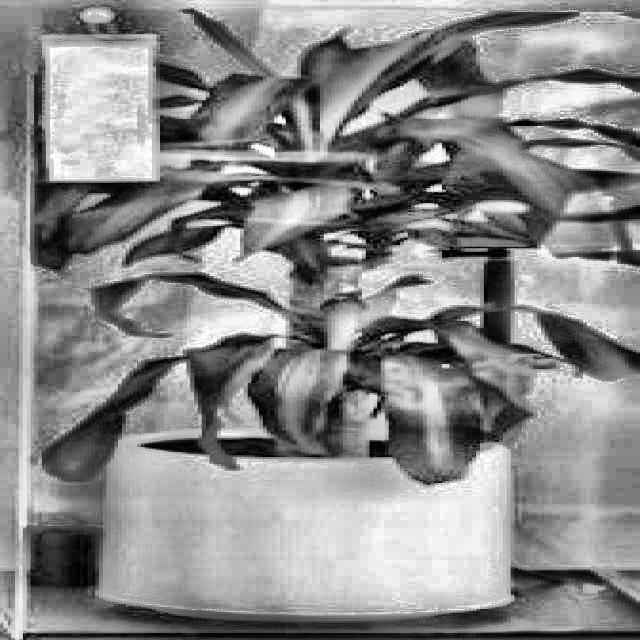plants: (57, 24, 636, 638), (76, 276, 608, 484)
